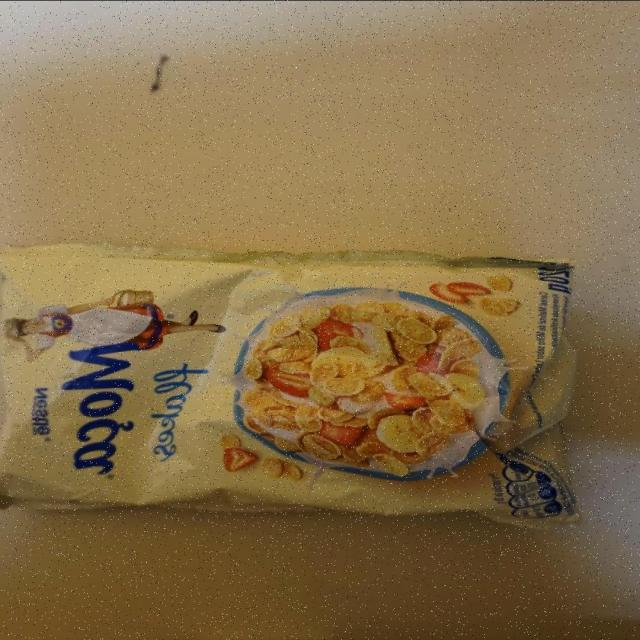CornFlakes: (0, 242, 584, 530)
